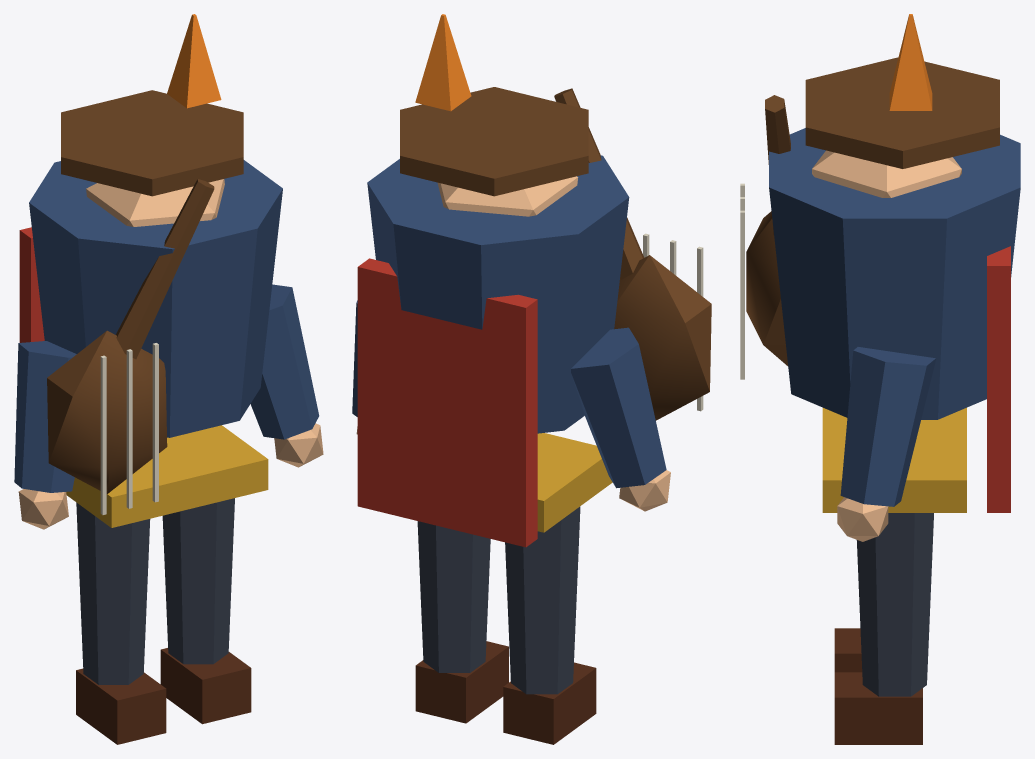
File: npc_bard.glb
The picture shows the model from 3 angles, left to right: view 1: azimuth 30°, elevation 25°; view 2: azimuth 150°, elevation 25°; view 3: azimuth 270°, elevation 25°; orthographic projection. The views are drawn at different scales.
Visible parts, largest first — view 1: npc_bard_lod0; view 2: npc_bard_lod0; view 3: npc_bard_lod0.
Boxes of the visible parts, x1=… form: npc_bard_lod0: x1=14, y1=14, x2=323, y2=744; npc_bard_lod0: x1=352, y1=14, x2=711, y2=744; npc_bard_lod0: x1=740, y1=14, x2=1020, y2=744.
Size of the model in its own units: 0.936 by 1.98 by 0.7001.
